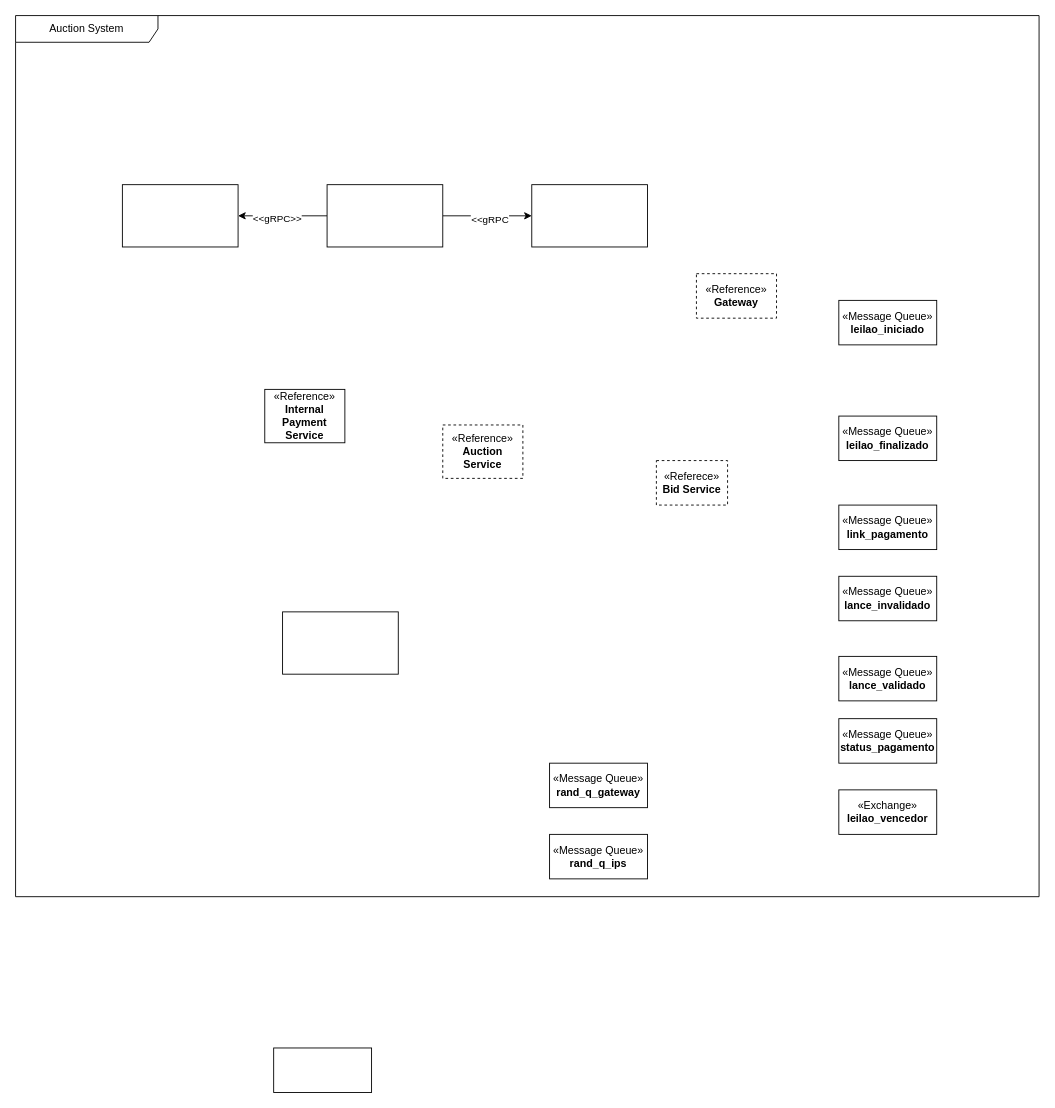
The diagram is 1055 pixels wide and 1108 high, and some of its shapes have lost their labels. Here are the shapes that lost their labels. From the top down, the centre of each, then its label:
At point (179, 215): "«Service» Bid Service".
At point (384, 215): "«Service» Gateway".
At point (589, 215): "«Service» Auction Service".
At point (340, 642): "«Service» Internal Payment Service".
At point (322, 1069): "«Service» External Payment Service".
